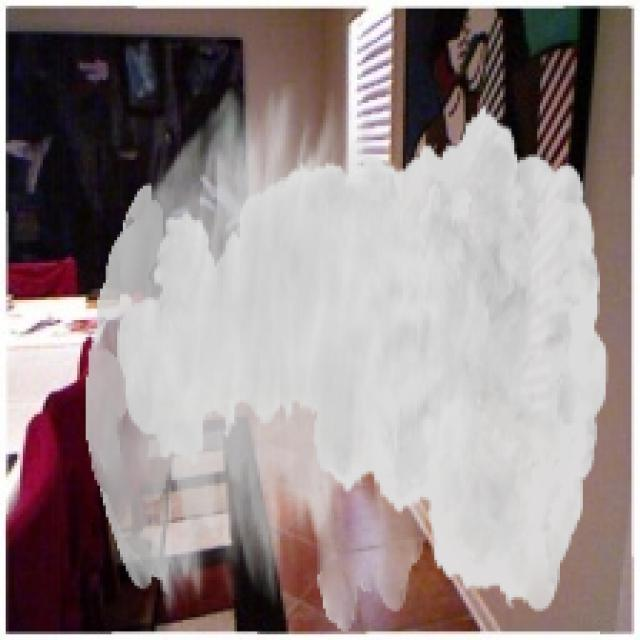smoke: (86, 83, 608, 631)
